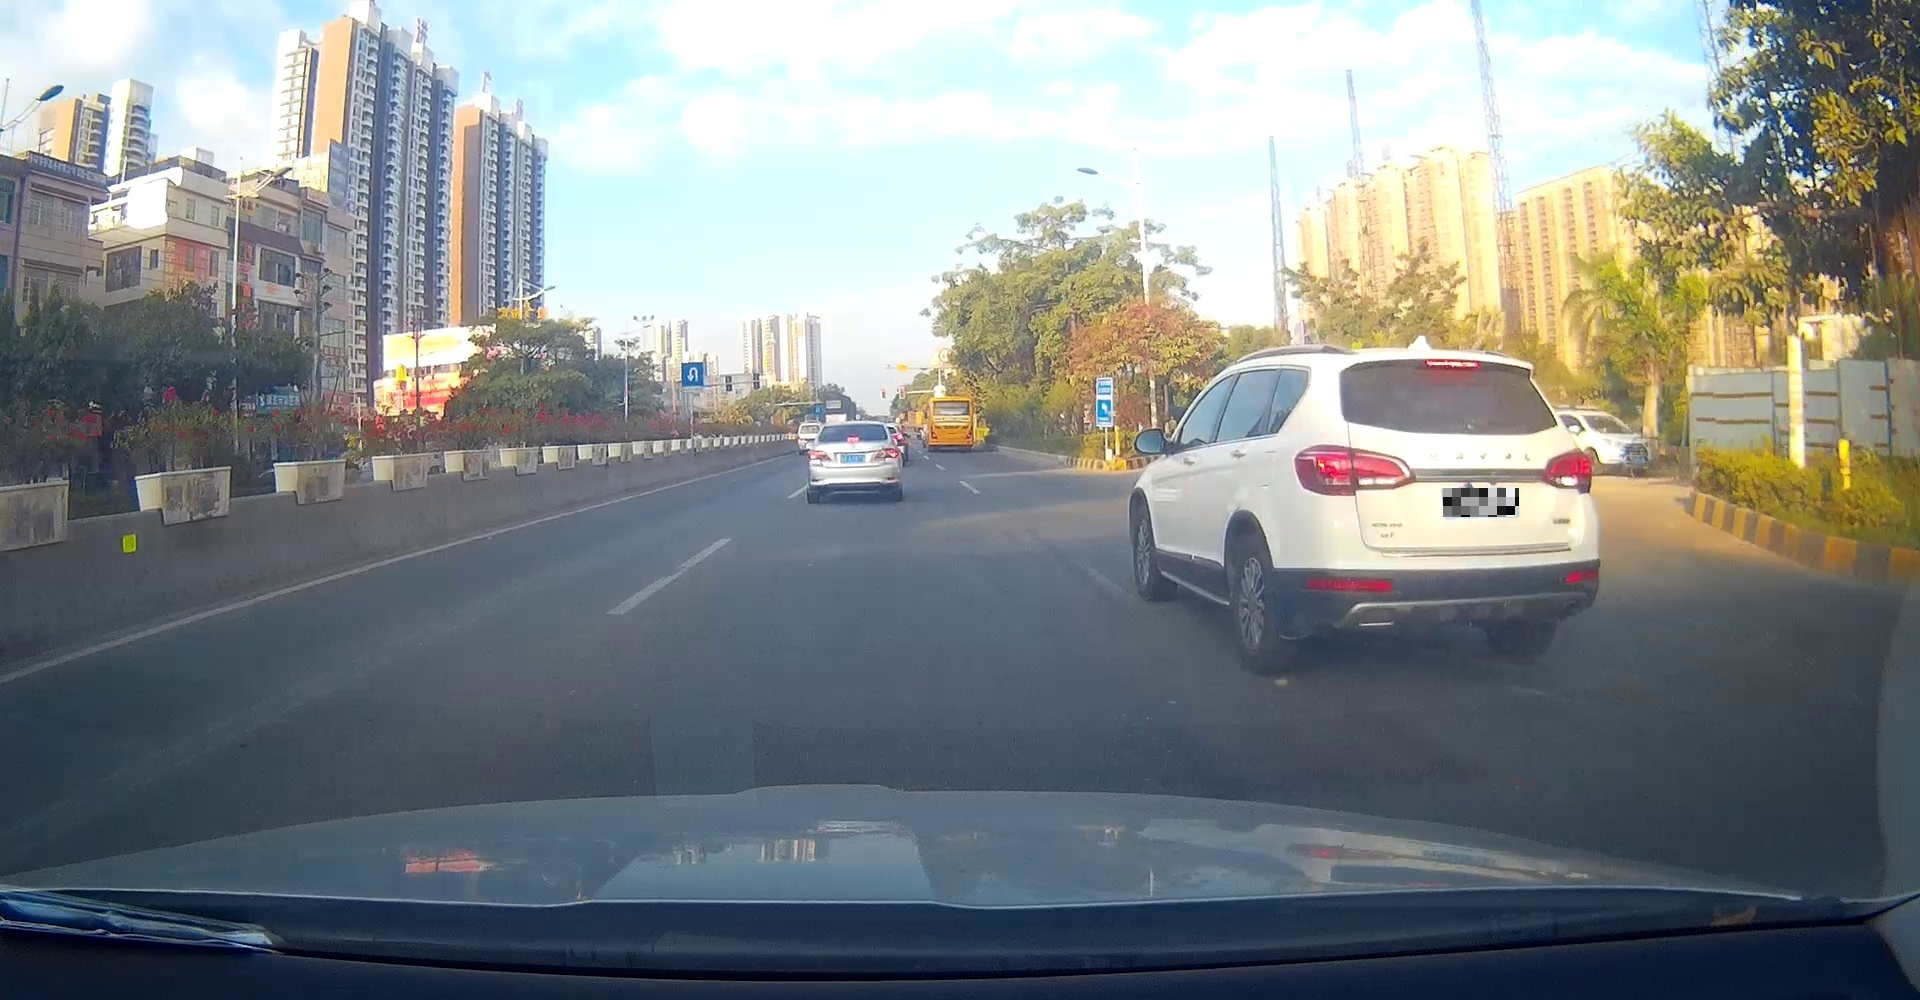L_light: (1294, 444, 1413, 497), (808, 449, 830, 461), (931, 428, 938, 439)
R_light: (1542, 447, 1592, 494), (875, 448, 899, 458), (965, 426, 971, 438)
T_light: (1426, 359, 1479, 368), (846, 437, 860, 443), (949, 401, 955, 404)
day-brake: (1291, 348, 1600, 671), (808, 423, 900, 504)
day-no: (928, 397, 973, 451)
plate_1: (1443, 489, 1519, 516)
